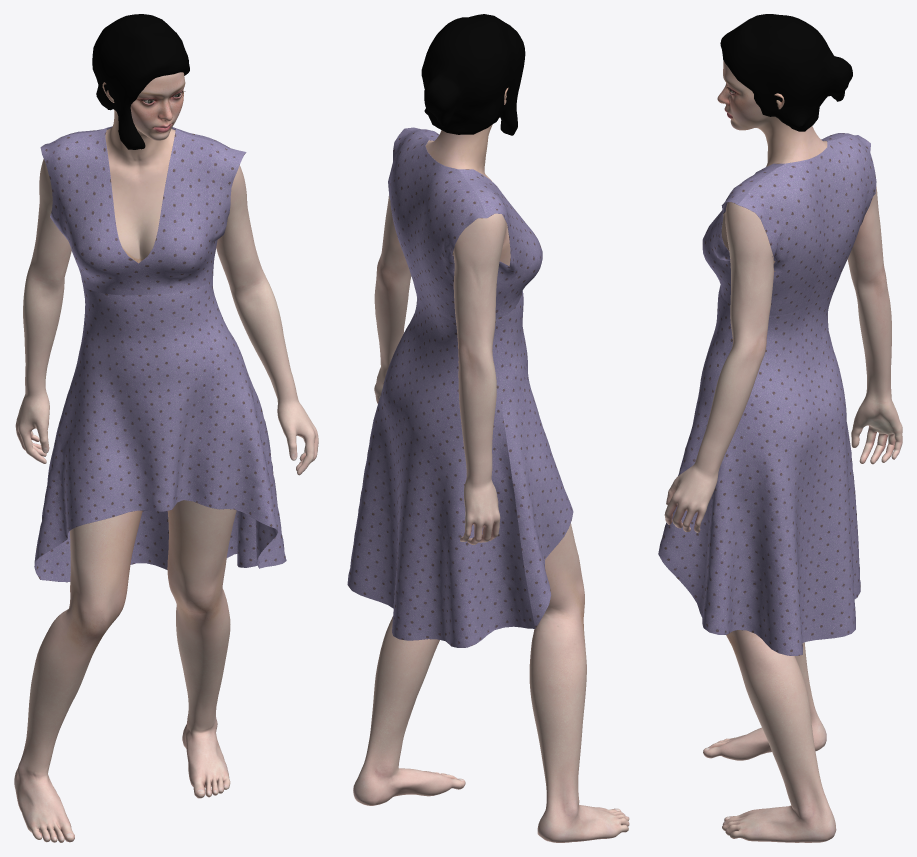
The model's file is Custom_View_5__FV2_05.obj.
The picture shows the model from 3 angles, left to right: view 1: azimuth 30°, elevation 25°; view 2: azimuth 150°, elevation 25°; view 3: azimuth 270°, elevation 25°; orthographic projection. The views are drawn at different scales.
Bounding box in the file's own units: 612 × 1724 × 483.
